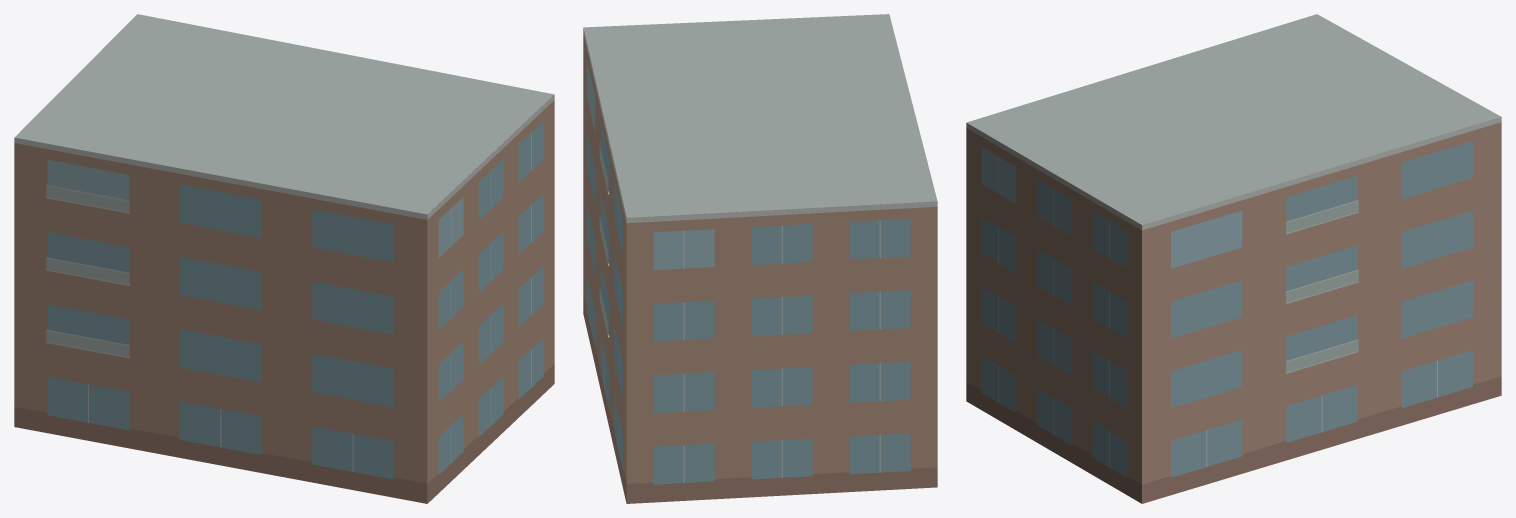
Rendered from survey-upis-33021508.glb.
The picture shows the model from 3 angles, left to right: view 1: azimuth 30°, elevation 25°; view 2: azimuth 150°, elevation 25°; view 3: azimuth 270°, elevation 25°; orthographic projection. The views are drawn at different scales.
Visible parts, largest first — view 1: survey-upis-33021508.tmp; view 2: survey-upis-33021508.tmp; view 3: survey-upis-33021508.tmp.
Boxes of the visible parts, bbox=[...] form: survey-upis-33021508.tmp: bbox=[14, 14, 554, 503]; survey-upis-33021508.tmp: bbox=[583, 14, 937, 503]; survey-upis-33021508.tmp: bbox=[966, 14, 1501, 503].
Bounding box in the file's own units: 21.13 × 13 × 22.64.
